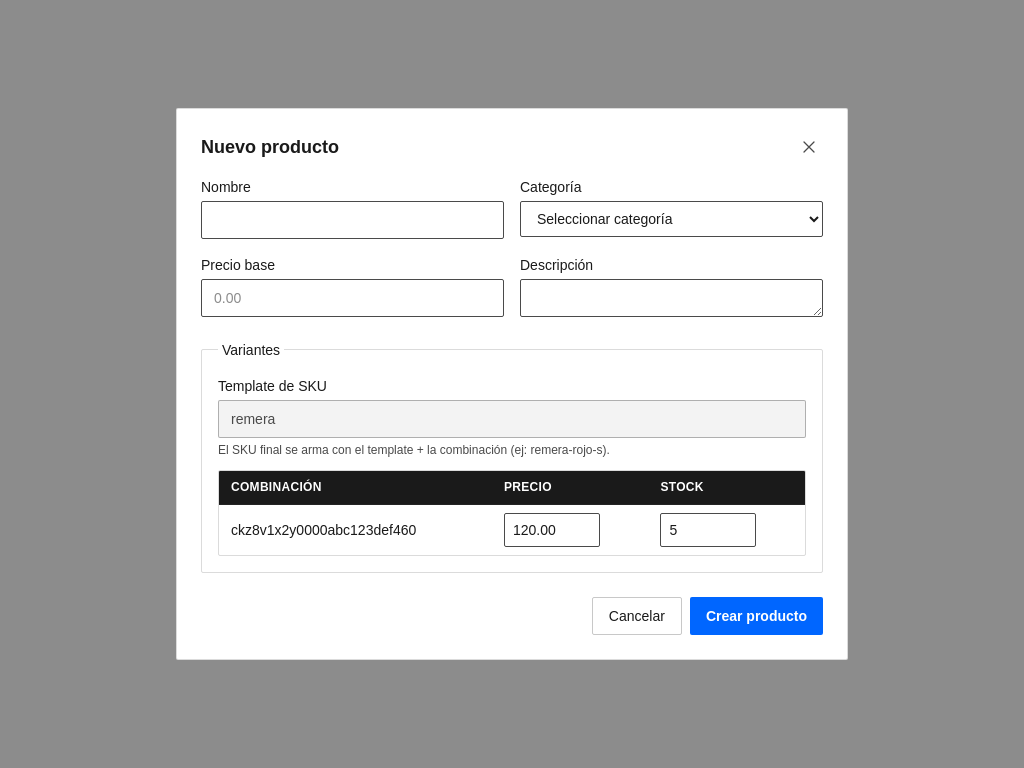
Test: ProductForm — create › shows validation errors and does not submit when the name is empty
Expected: the field labelled "Nombre" is shown, [201,201,504,239]
Step 1. Click the button "Crear producto" → (756, 616), box [690,597,823,635]
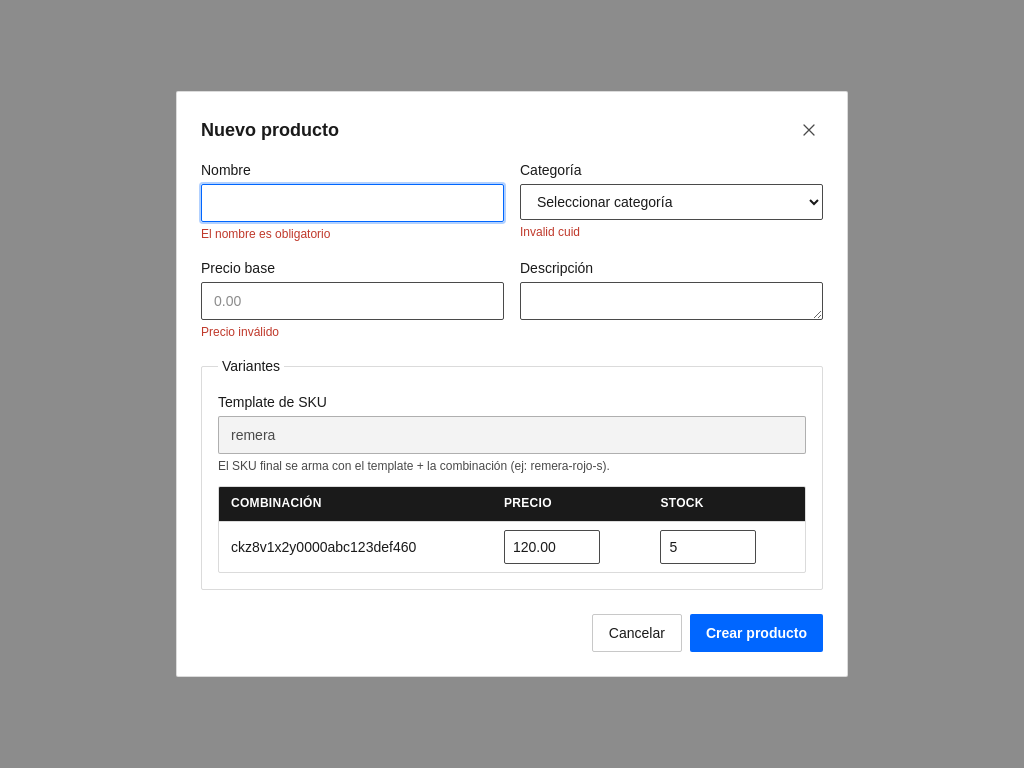
Now the text "El nombre es obligatorio" is shown, box [201,227,330,241]
